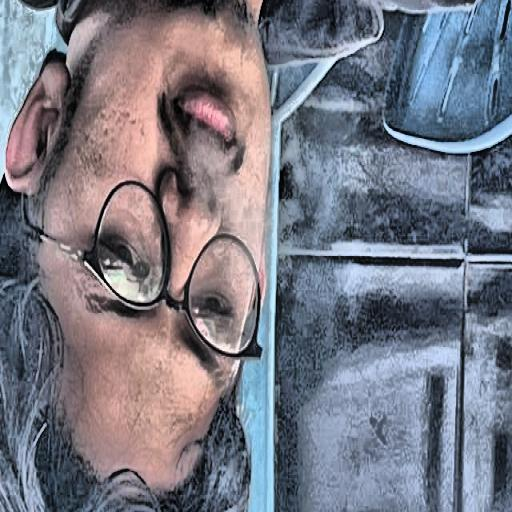Rokok: (0, 0, 474, 512)
